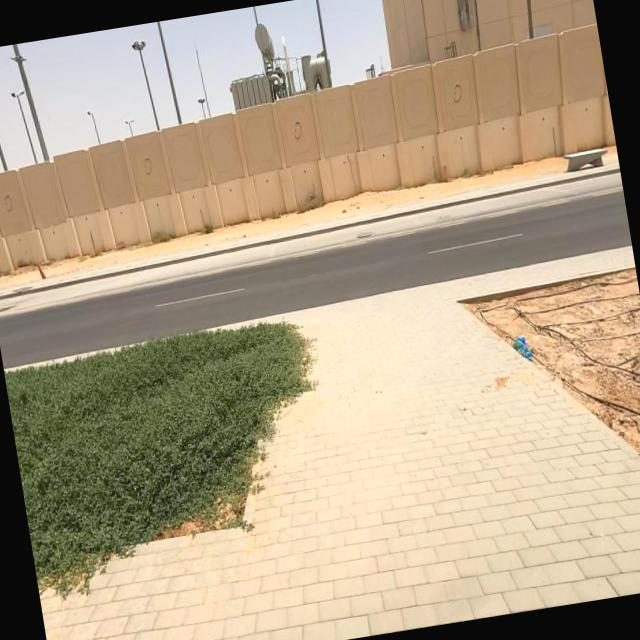debris: (482, 292, 566, 394)
